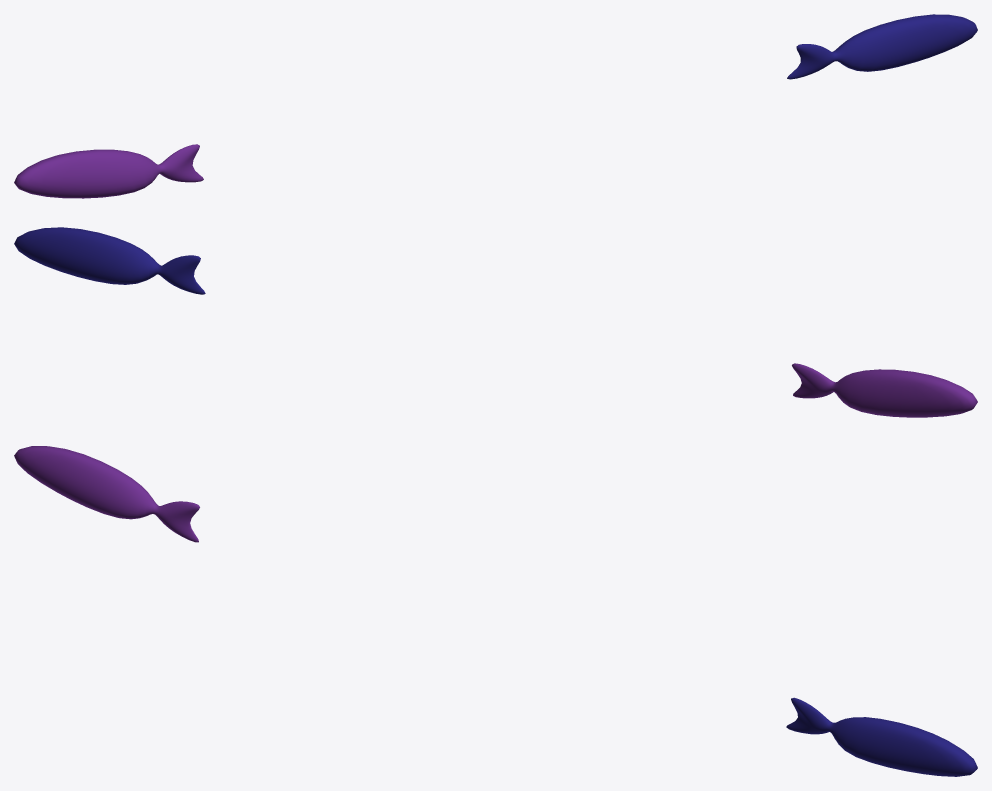
File: fishs.glb
3 views of the same model, one above another, from view 1: azimuth 30°, elevation 25°; view 2: azimuth 150°, elevation 25°; view 3: azimuth 330°, elevation 25° (orthographic).
Visible parts, largest first — view 1: Cube.087, Cube.092; view 2: Cube.092, Cube.087; view 3: Cube.087, Cube.092.
Part boxes in pixels (x1,y1,x2,y2): Cube.087: (14, 144, 203, 198); Cube.092: (787, 14, 977, 79); Cube.092: (14, 227, 205, 294); Cube.087: (792, 363, 977, 417); Cube.087: (14, 446, 199, 542); Cube.092: (786, 697, 977, 776).
Size of the model in its own units: 5.97 by 0.6483 by 0.2202.
